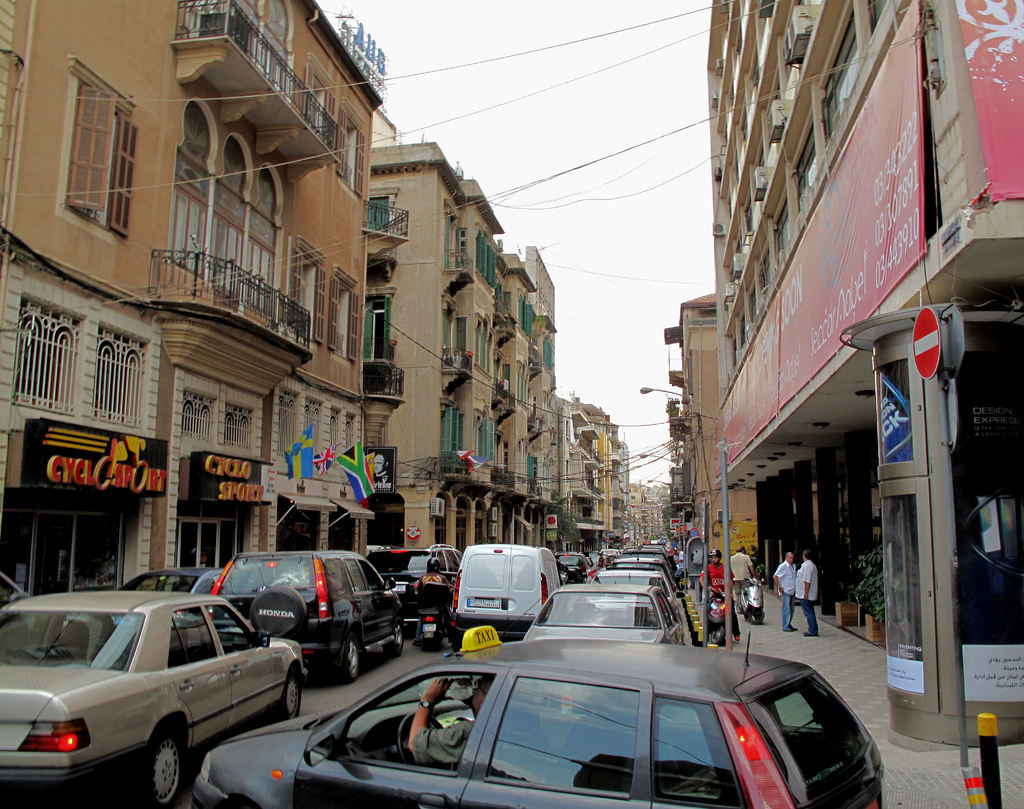Car: (192, 637, 881, 808), (2, 583, 308, 808), (202, 554, 408, 676), (513, 581, 686, 647), (386, 544, 469, 632), (584, 565, 680, 609), (116, 563, 230, 594), (618, 552, 677, 576), (556, 549, 590, 584), (625, 545, 670, 570)
